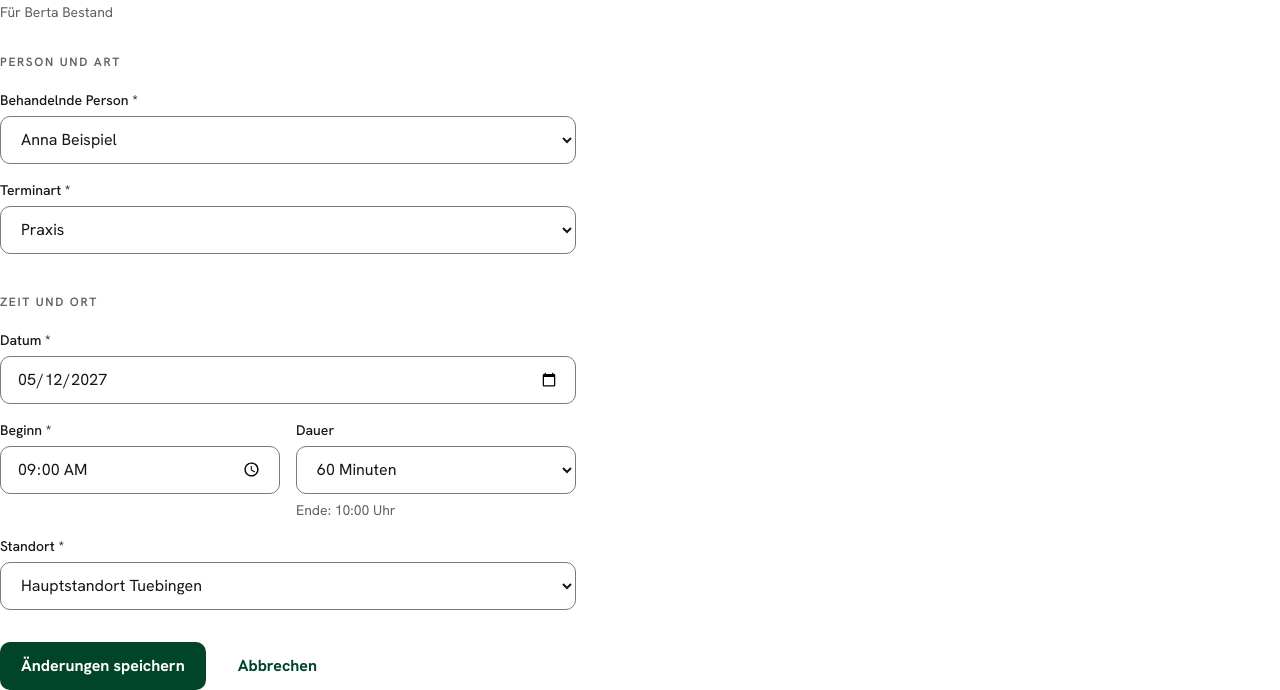
Test: EditAppointmentPage › wiederholt im Fehlerfenster nicht den Titel (ZST-12)
The image size is (1280, 690).
(page scrolled)
Click the button "Änderungen speichern" at (103, 666), box x1=0 y1=642 x2=206 y2=689
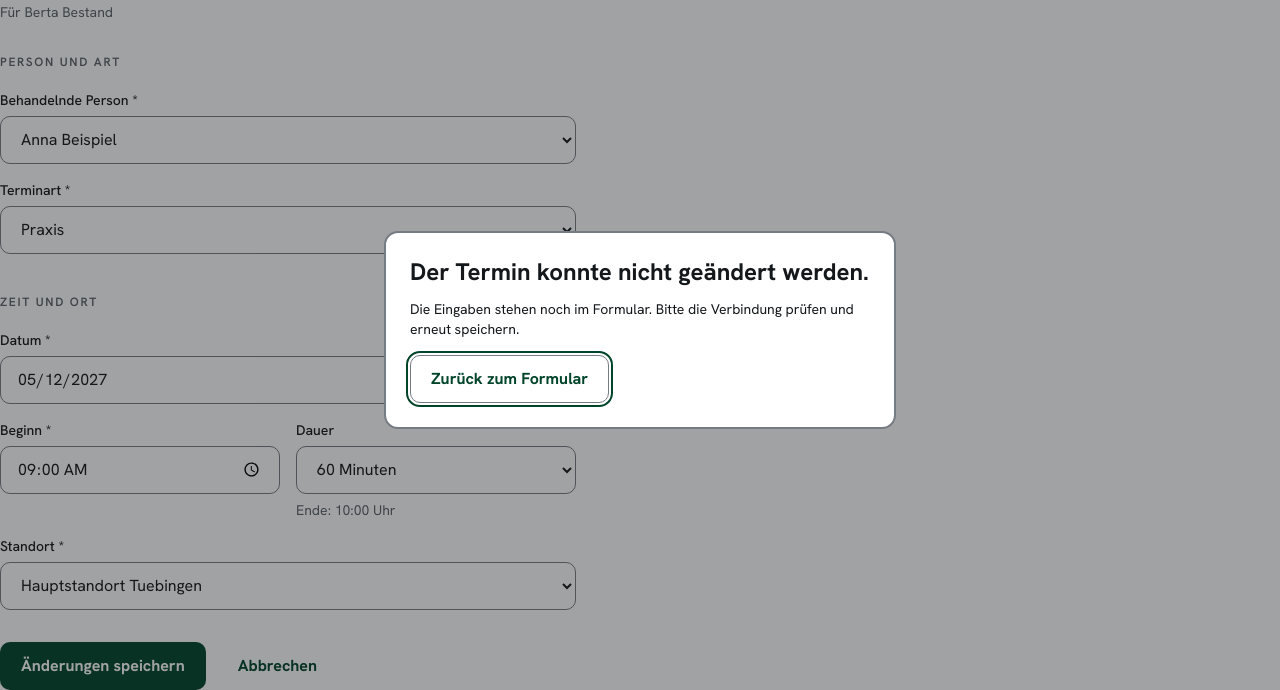
Check: the dialog "Der Termin konnte nicht geändert werden." shows "Die Eingaben stehen noch im Formular.", box x1=410 y1=300 x2=854 y2=338
